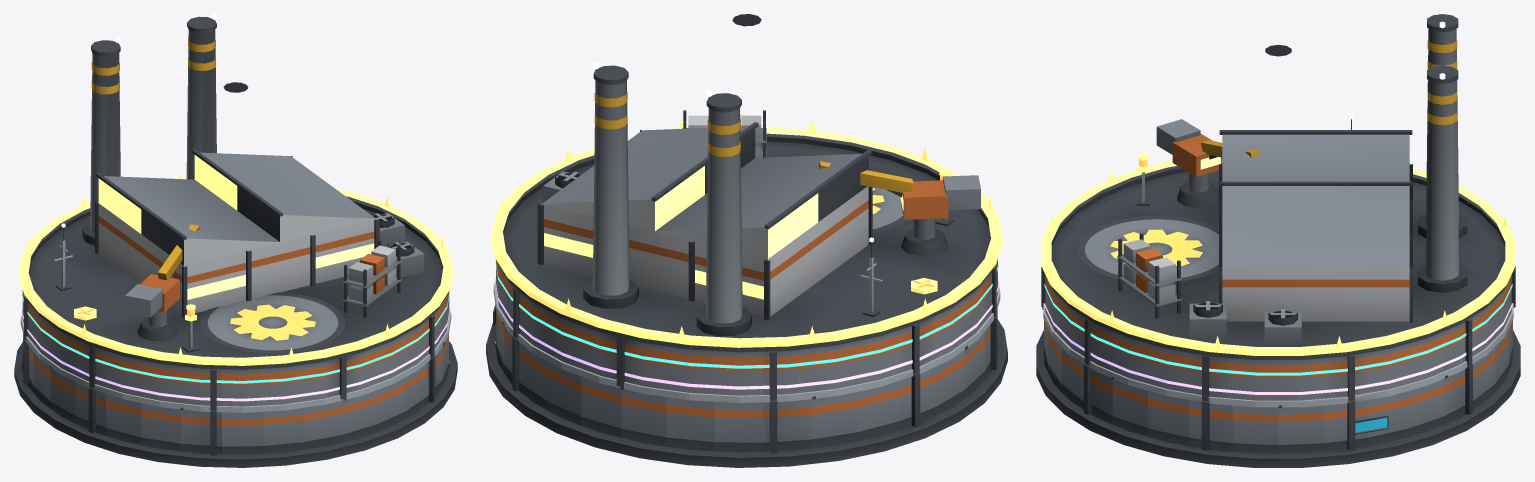
File: workshop_s.glb
3 renders of one model, left to right at view 1: azimuth 30°, elevation 25°; view 2: azimuth 150°, elevation 25°; view 3: azimuth 270°, elevation 25°, orthographic. The views are drawn at different scales.
Visible parts, largest first — view 1: Roof, Base, Wall_20, Wall_21, Wall_22, Wall_19, Wall_23, Wall_18, Wall_24, Upper_20, Upper_21, Upper_22 (+21 smaller); view 2: Roof, Base, Wall_10, Wall_11, Wall_09, Wall_12, Wall_08, Wall_13, Wall_07, Upper_11, Upper_10, Upper_08 (+25 smaller); view 3: Roof, Base, Wall_00, Wall_31, Wall_30, Wall_01, Wall_29, Wall_03, Wall_28, Upper_01, Upper_30, Upper_00 (+21 smaller).
Part boxes in pixels (box(x1,y1,x2,y2)): Roof: box(26, 14, 447, 369); Base: box(14, 341, 457, 467); Wall_20: box(180, 407, 221, 455); Wall_21: box(222, 411, 263, 454); Wall_22: box(264, 407, 304, 453); Wall_19: box(141, 403, 180, 451); Wall_23: box(304, 400, 342, 449); Wall_18: box(106, 394, 141, 445); Wall_24: box(342, 390, 376, 442); Upper_20: box(181, 366, 221, 410); Upper_21: box(222, 368, 263, 406); Upper_22: box(263, 364, 304, 405); Roof: box(497, 14, 993, 352); Base: box(486, 319, 1007, 467); Wall_10: box(714, 401, 763, 452); Wall_11: box(763, 399, 811, 453); Wall_09: box(666, 397, 714, 451); Wall_12: box(812, 392, 857, 448); Wall_08: box(620, 387, 666, 446); Wall_13: box(858, 381, 899, 441); Wall_07: box(581, 376, 621, 437); Upper_11: box(763, 348, 811, 400); Upper_10: box(714, 351, 763, 395); Upper_08: box(619, 338, 666, 389); Roof: box(1050, 14, 1506, 359); Base: box(1036, 330, 1520, 467); Wall_00: box(1278, 405, 1324, 453); Wall_31: box(1232, 405, 1278, 453); Wall_30: box(1188, 400, 1232, 451); Wall_01: box(1324, 400, 1368, 451); Wall_29: box(1148, 391, 1188, 446); Wall_03: box(1408, 379, 1444, 436); Wall_28: box(1111, 376, 1148, 436); Upper_01: box(1324, 352, 1367, 401); Upper_30: box(1189, 352, 1232, 401); Upper_00: box(1278, 358, 1323, 400).
Size of the model in its own units: 11.74 by 8.59 by 11.74.
